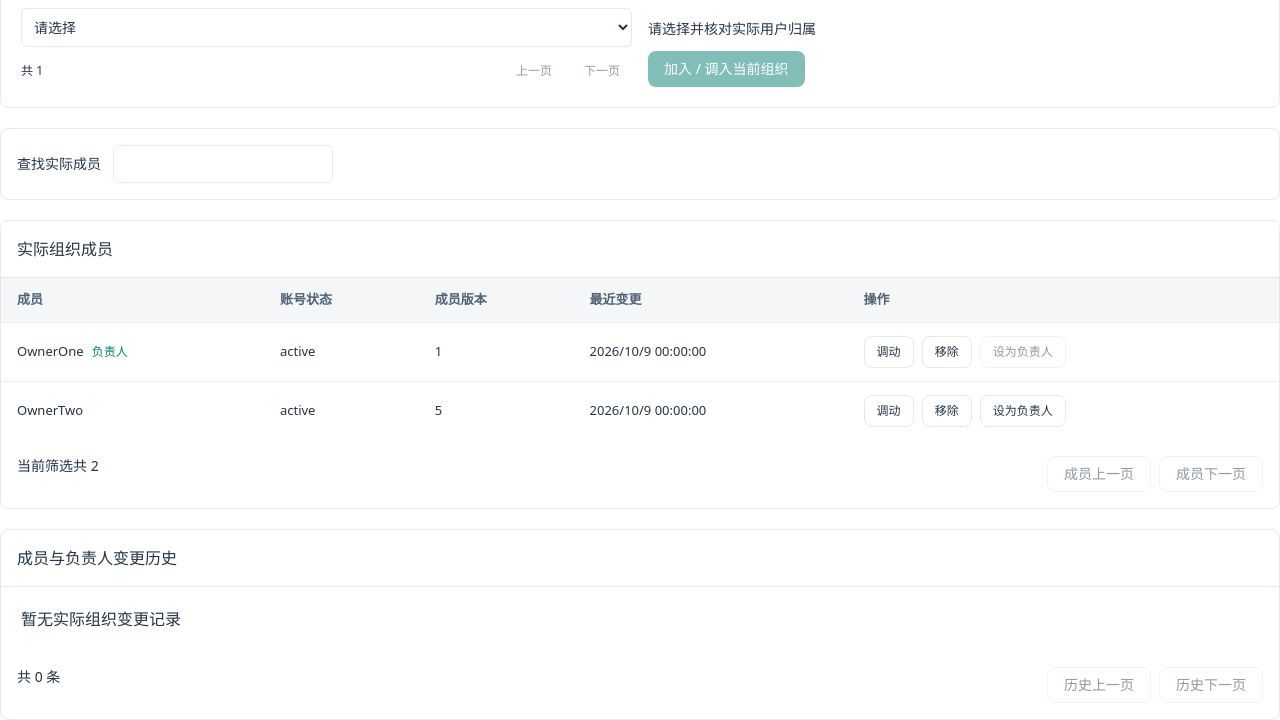
Test: organization member workflows › keeps a version conflict visible without automatically overriding the manager CAS
This screenshot has width=1280, height=720.
(page scrolled)
Expected: the cell "OwnerTwo" is shown, [1,381,264,440]
Click the button "设为负责人" in the row of "OwnerTwo" at (1023, 410), box [980,394,1066,426]
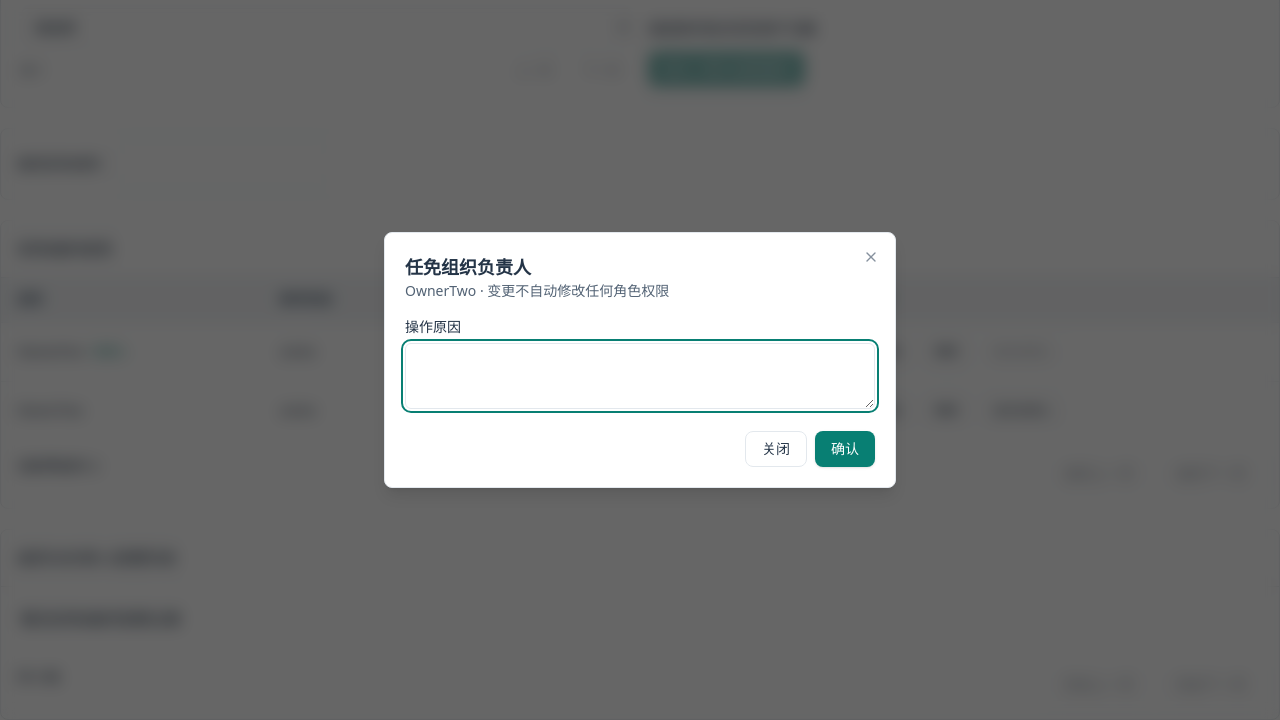
Type "岗位调动" into the text box labelled "操作原因" at (640, 376), box [405,343,875,409]
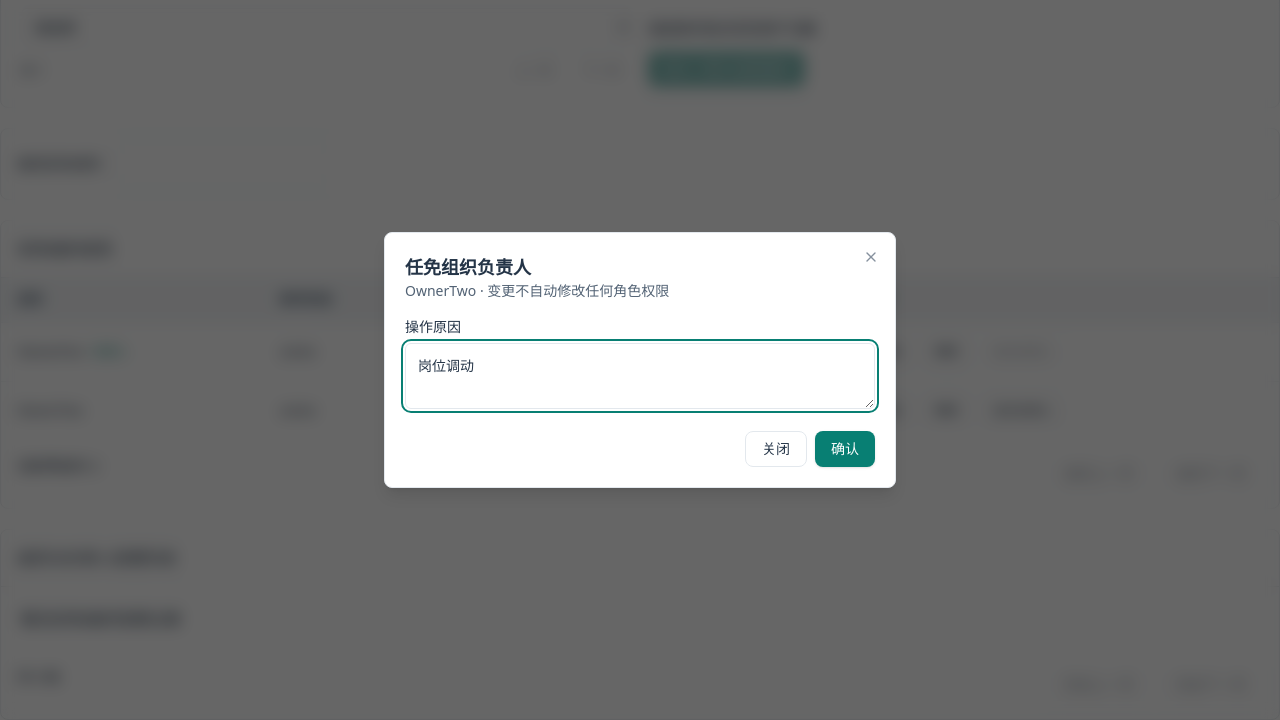
Click the button "确认" at (845, 449), box [815,431,875,467]
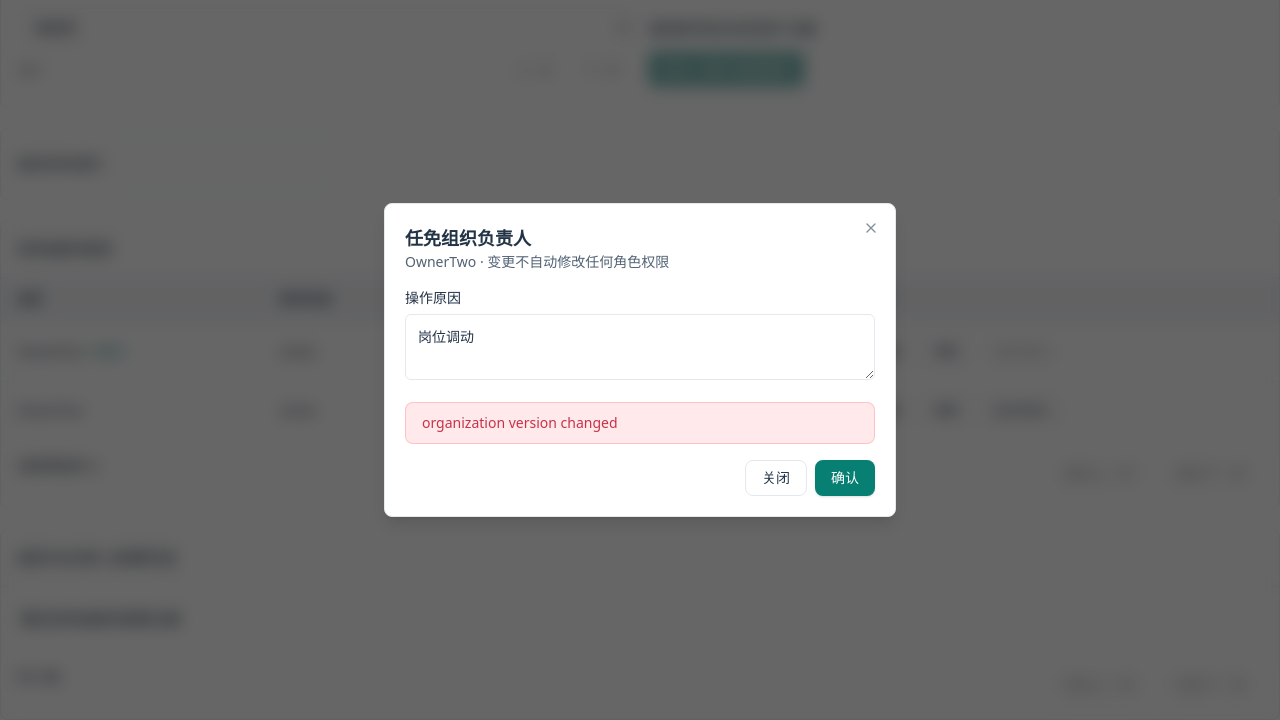
Expected: the dialog is shown, [384,203,896,517]
Expected: the text "organization version changed" is shown, [422,413,618,432]
